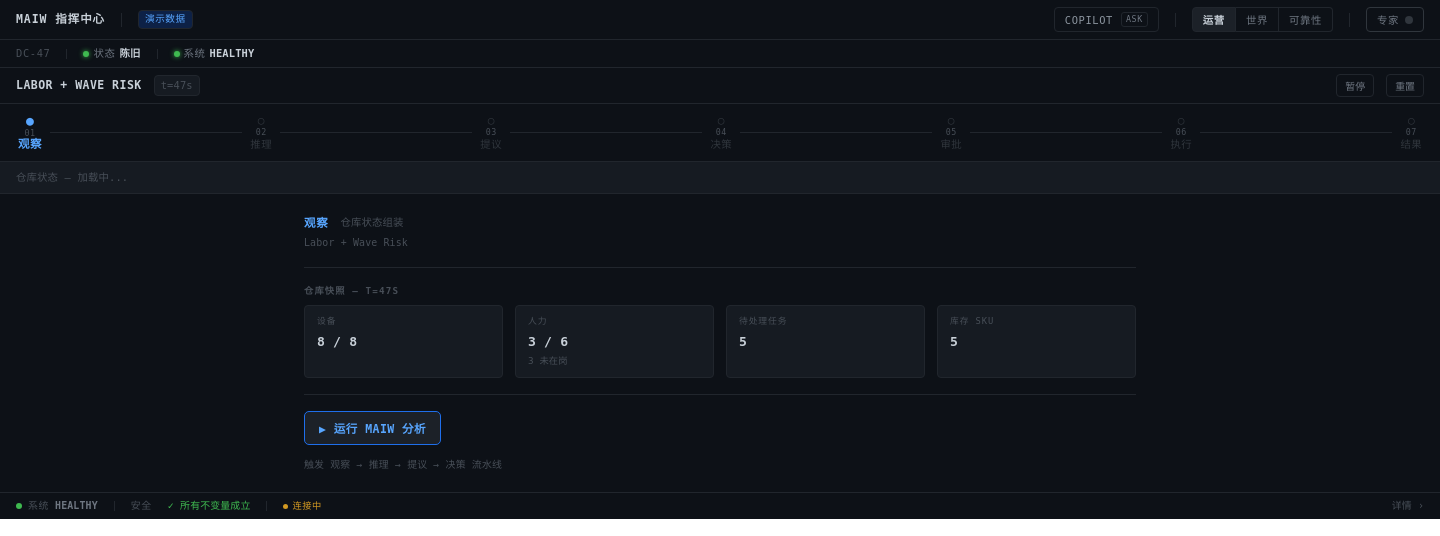
DemoShell — scenario routing › reset returns to ScenarioSelector and clears lifecycle state
Expected: the element with test id "lifecycle-rail" is shown, [0,104,1439,162]
Note: Click reset
Click the button with test id "reset-button" at (1405,85), box [1386,74,1424,97]
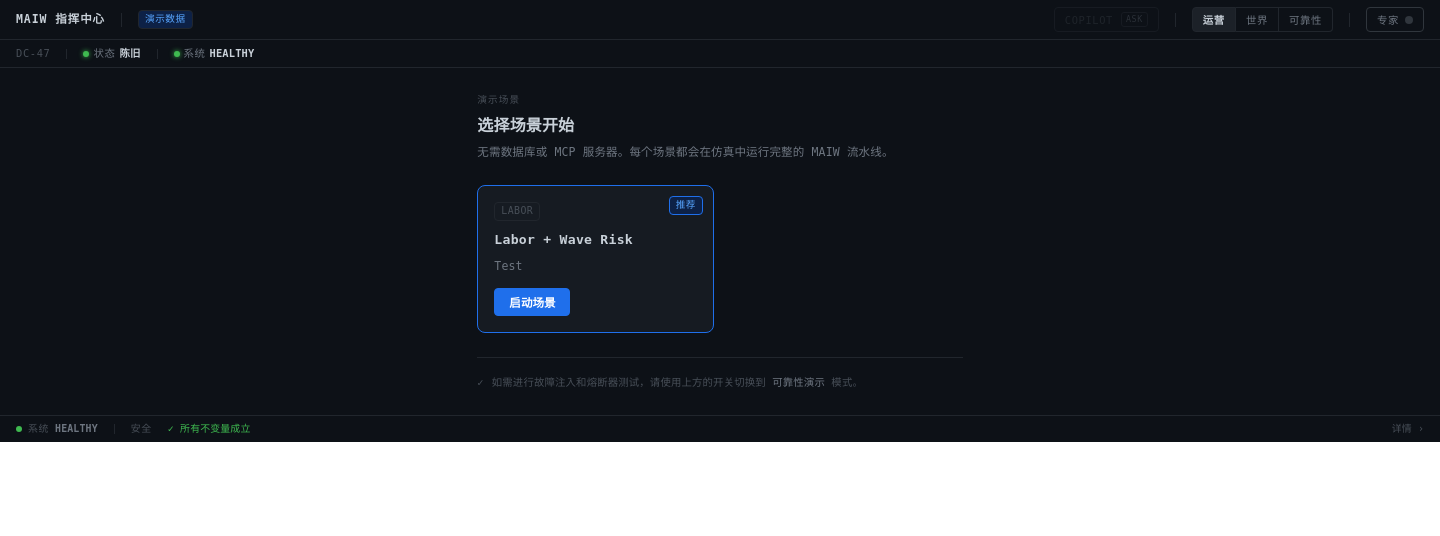
Now the element with test id "lifecycle-rail" is gone
